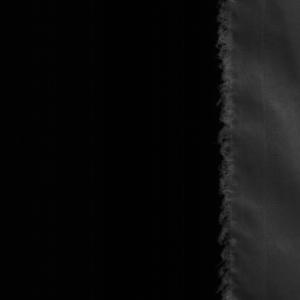Damage: (208, 1, 261, 300)
